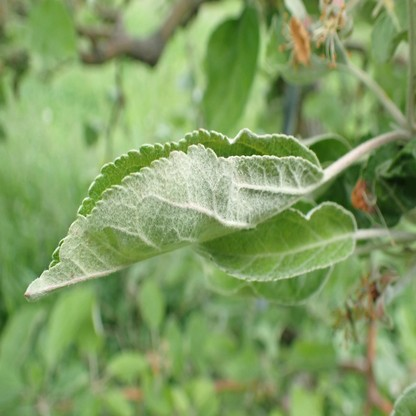powdery_mildew: (23, 127, 323, 300)
